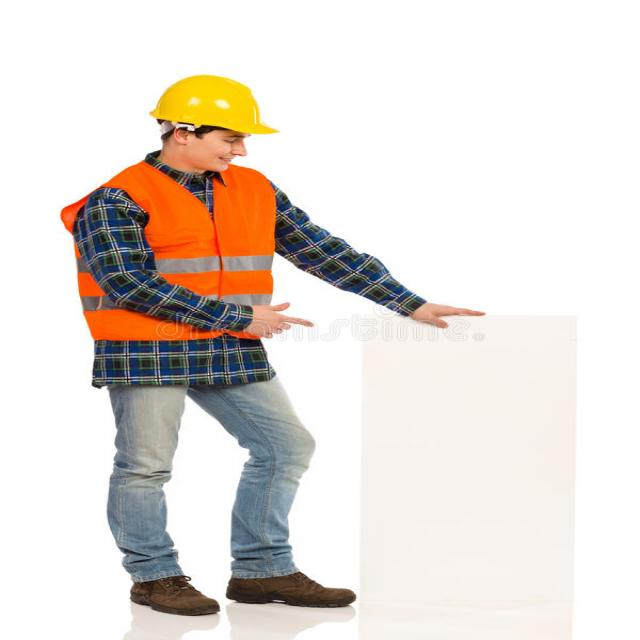Reflective-Jacket: (74, 163, 282, 343)
Safety-Helmet: (145, 73, 281, 137)
